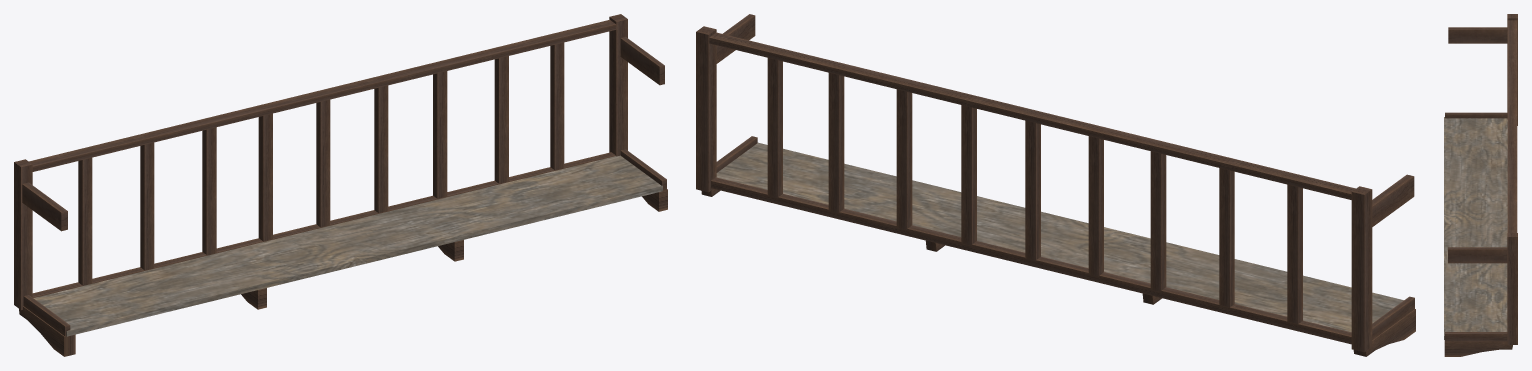
The model's file is windowflameout03a.fbx.
3 renders of one model, left to right at view 1: azimuth 30°, elevation 25°; view 2: azimuth 150°, elevation 25°; view 3: azimuth 270°, elevation 25°, orthographic. The views are drawn at different scales.
Visible parts, largest first — view 1: windowflameout03a; view 2: windowflameout03a; view 3: windowflameout03a.
Boxes of the visible parts, x1=… form: windowflameout03a: x1=14, y1=14, x2=667, y2=356; windowflameout03a: x1=696, y1=14, x2=1415, y2=356; windowflameout03a: x1=1444, y1=14, x2=1517, y2=356.
Bounding box in the file's own units: 262 × 65.86 × 36.57.
